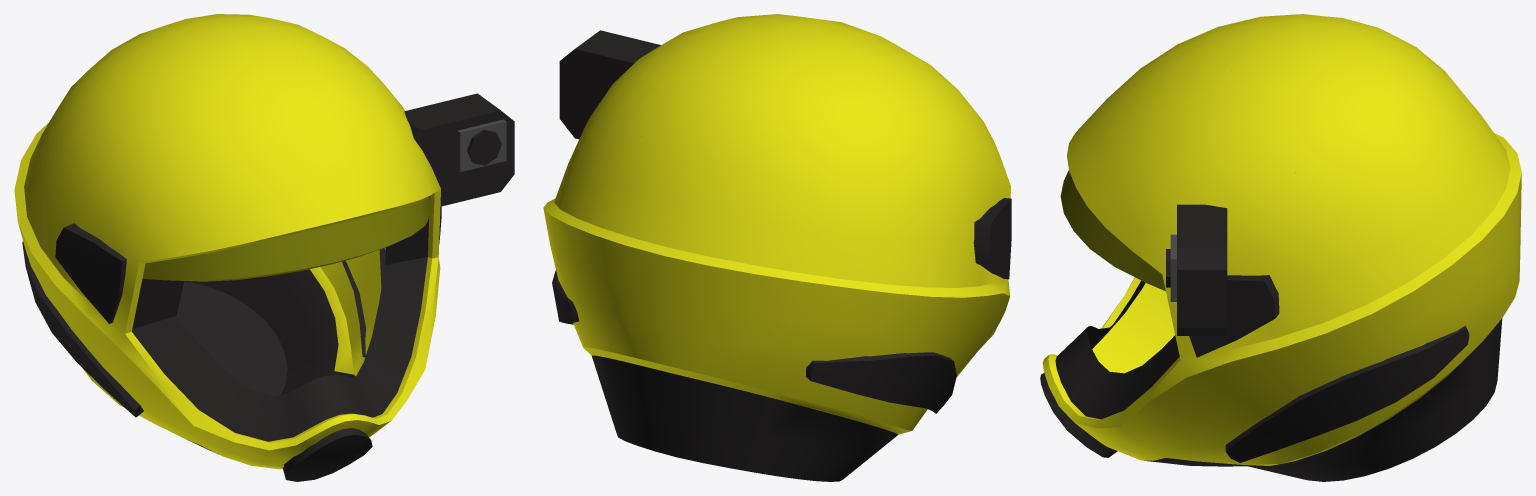
File: 43跳伞头盔.fbx
3 renders of one model, left to right at view 1: azimuth 30°, elevation 25°; view 2: azimuth 150°, elevation 25°; view 3: azimuth 270°, elevation 25°, orthographic. The views are drawn at different scales.
Parts seen in each view (by area): view 1: 43跳伞头盔; view 2: 43跳伞头盔; view 3: 43跳伞头盔.
Part boxes in pixels (x1=…): 43跳伞头盔: x1=14, y1=14, x2=514, y2=481; 43跳伞头盔: x1=543, y1=14, x2=1011, y2=481; 43跳伞头盔: x1=1040, y1=14, x2=1521, y2=481.
Bounding box in the file's own units: 0.5226 × 0.4711 × 0.4845.
